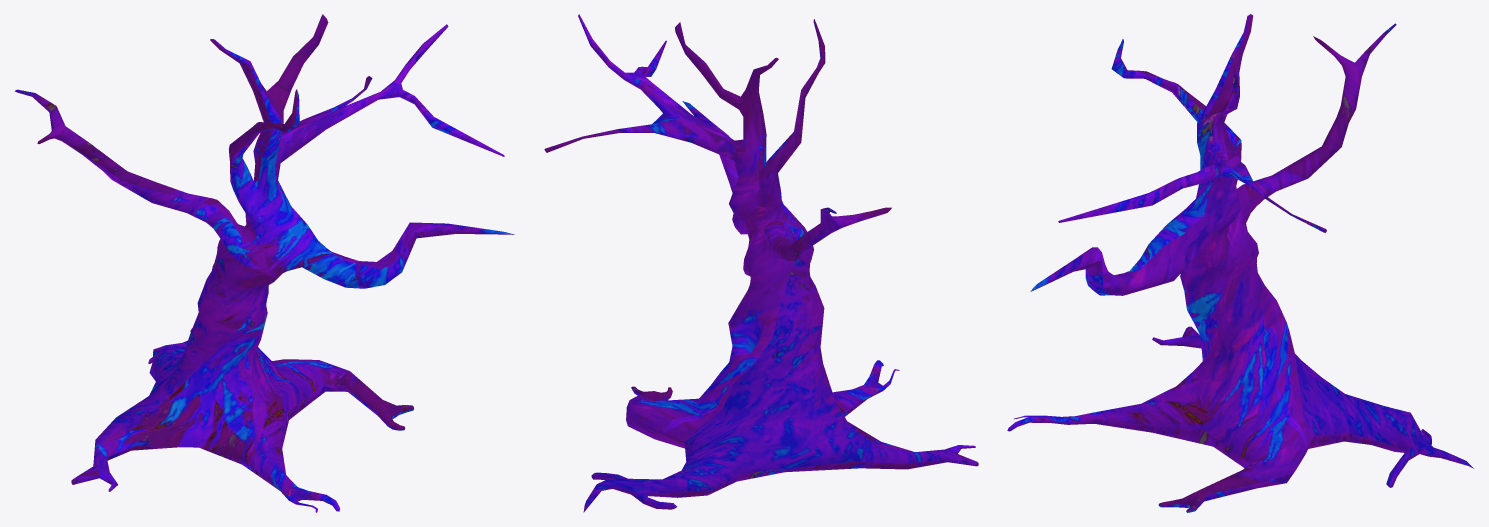
Rendered from three.glb.
The picture shows the model from 3 angles, left to right: view 1: azimuth 30°, elevation 25°; view 2: azimuth 150°, elevation 25°; view 3: azimuth 270°, elevation 25°; orthographic projection. The views are drawn at different scales.
Visible parts, largest first — view 1: Object_2; view 2: Object_2; view 3: Object_2.
Boxes of the visible parts, <box> form: Object_2: <box>15,14,514,512</box>; Object_2: <box>544,14,978,512</box>; Object_2: <box>1007,14,1473,512</box>.
Size of the model in its own units: 1 by 1 by 1.
1 material, 1 textured.
